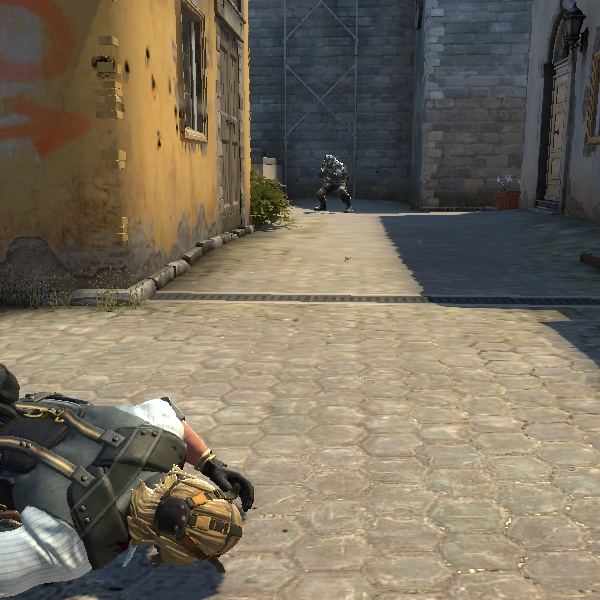ct_body: (314, 153, 350, 209)
